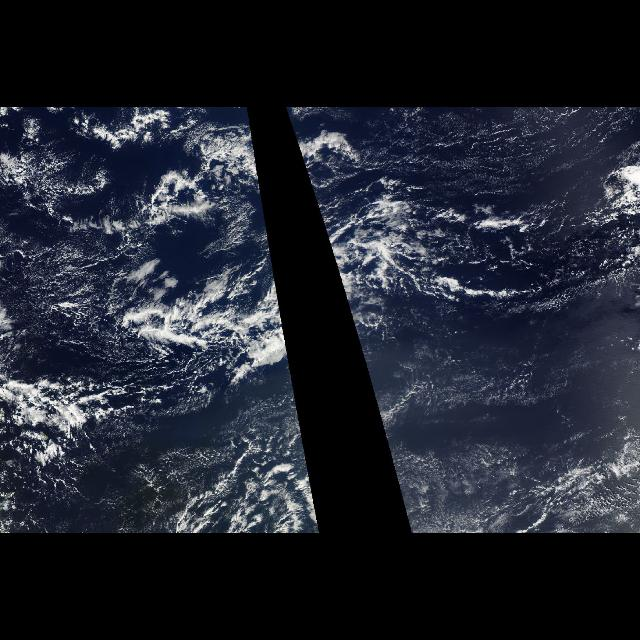Fish: (2, 129, 288, 457), (291, 130, 477, 346)
Gravel: (409, 190, 558, 324)
Sugar: (380, 328, 640, 534), (357, 110, 618, 204), (20, 238, 120, 352)
